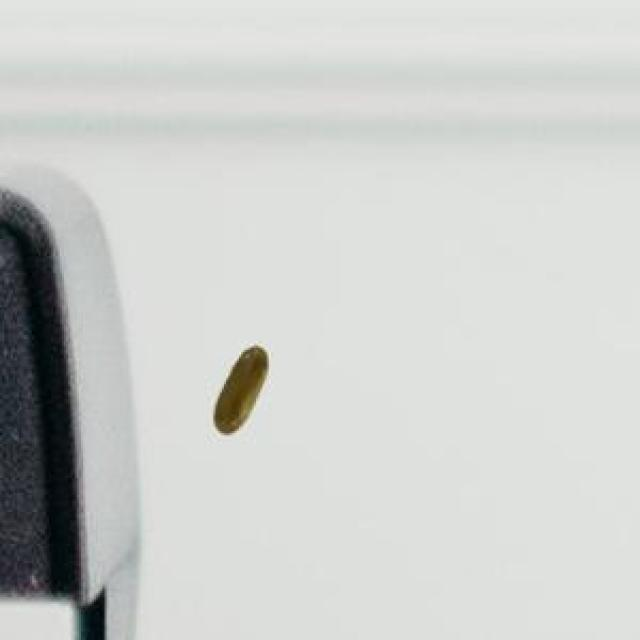Fish_Oil: (188, 342, 288, 442)
